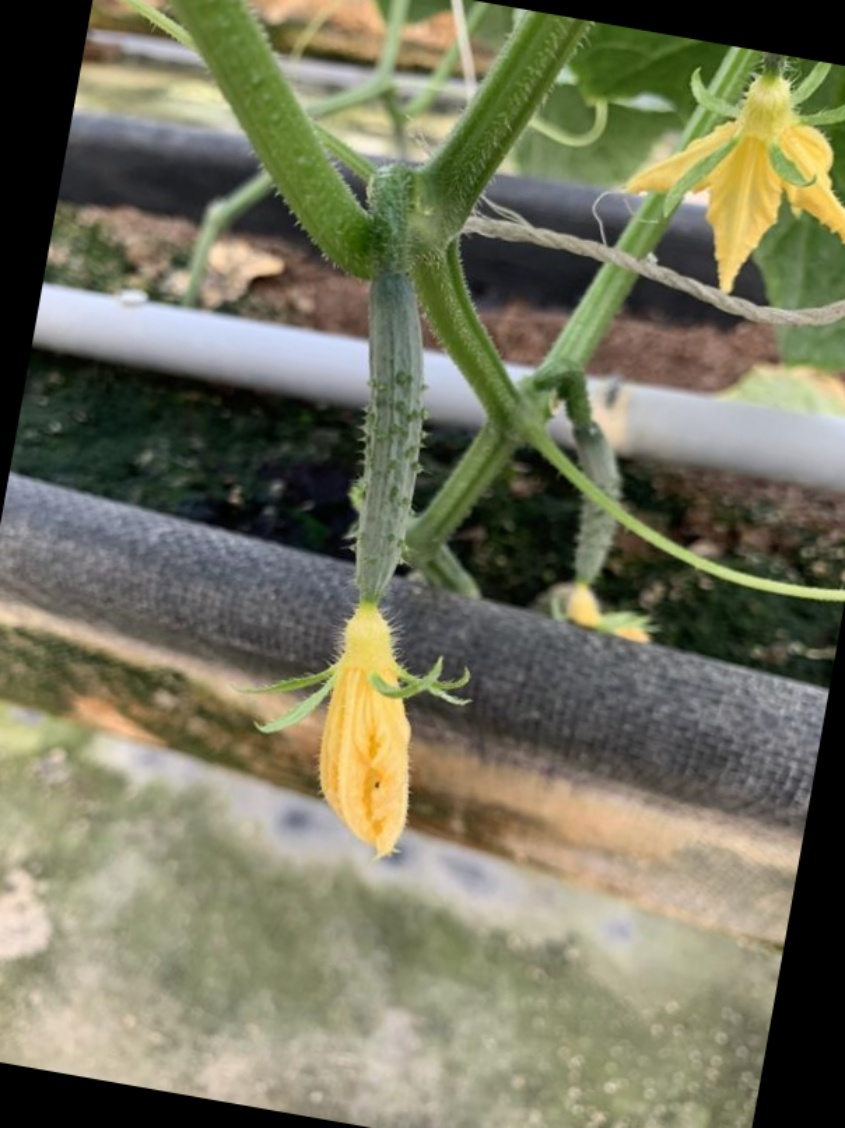bear: (257, 269, 468, 860)
